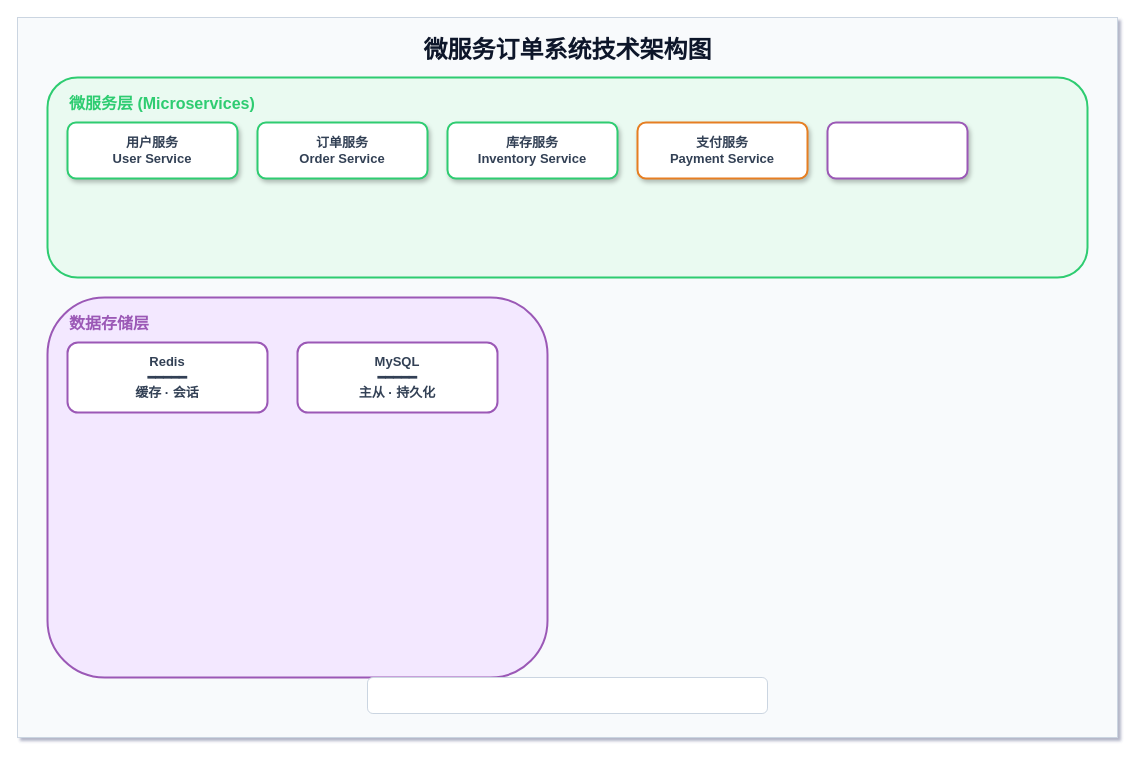
The diagram is 1141 pixels wide and 761 high, and some of its shapes have lost their labels. Each missing label, with the centre of its shape:
消息队列 Kafka: (898,151)
绿色=业务服务 橙色=支付服务 紫色=消息/存储: (567,695)
